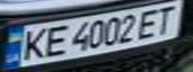0: (103, 14, 127, 47), (87, 17, 109, 50)
2: (118, 10, 145, 44)
4: (69, 19, 93, 52)
E: (36, 23, 72, 57), (136, 7, 166, 39)
K: (15, 26, 51, 62)
T: (151, 2, 184, 35)
